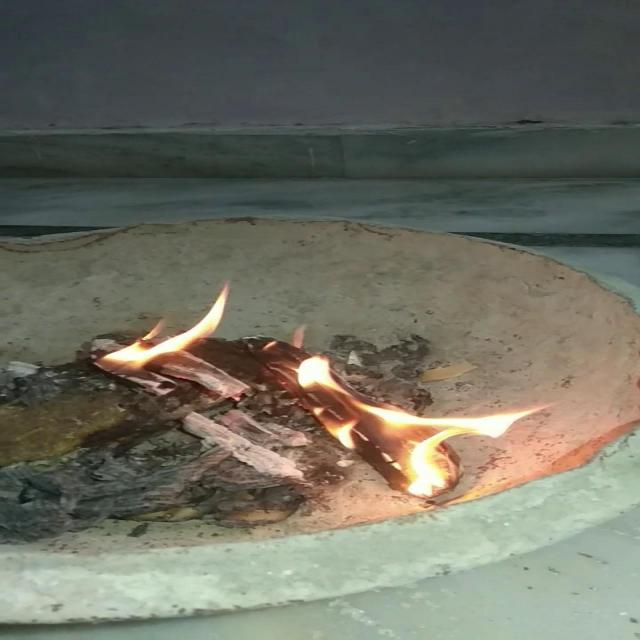fire: (294, 349, 555, 495), (82, 278, 252, 378)
